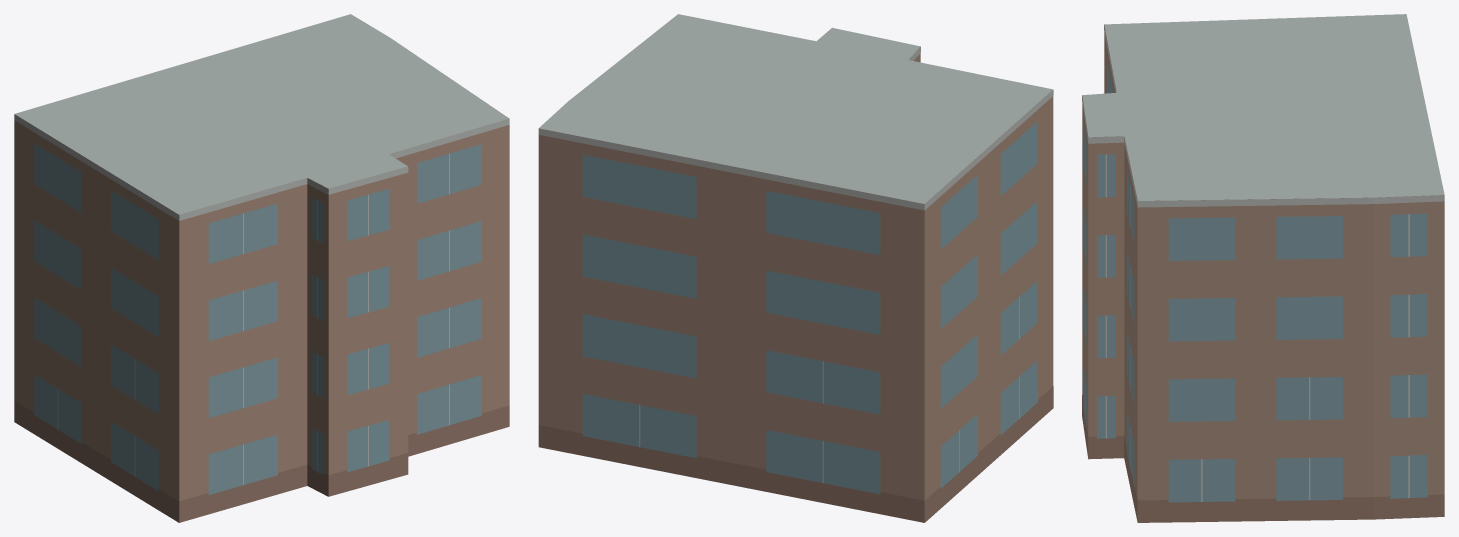
File: survey-upis-32462072.glb
The picture shows the model from 3 angles, left to right: view 1: azimuth 30°, elevation 25°; view 2: azimuth 150°, elevation 25°; view 3: azimuth 270°, elevation 25°; orthographic projection. The views are drawn at different scales.
Visible parts, largest first — view 1: survey-upis-32462072.tmp; view 2: survey-upis-32462072.tmp; view 3: survey-upis-32462072.tmp.
Boxes of the visible parts, <box> form: survey-upis-32462072.tmp: <box>14,14,509,522</box>; survey-upis-32462072.tmp: <box>538,14,1053,522</box>; survey-upis-32462072.tmp: <box>1082,14,1444,522</box>.
Size of the model in its own units: 15.15 by 12.15 by 12.41.
